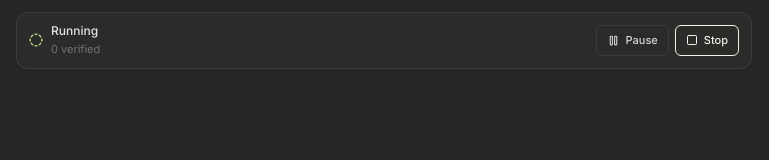
Test: ExecutionTimeline › sends at most one action when the user double-clicks while the request is pending
Later steps or results of the test are not shown.
Click the button with aria-label "Pause execution": (632, 40) [596,25,669,56]
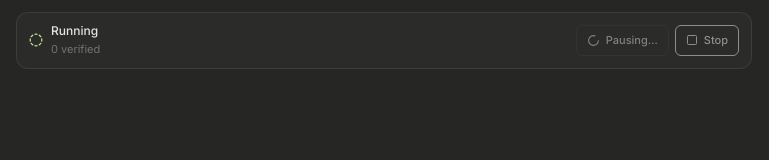
Click the button named "Pause execution": (622, 40) [576,25,669,56]
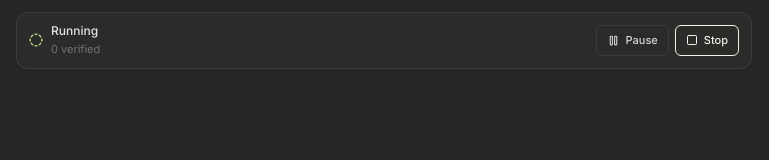
Now the button with aria-label "Pause execution" is enabled, box [596,25,669,56]
